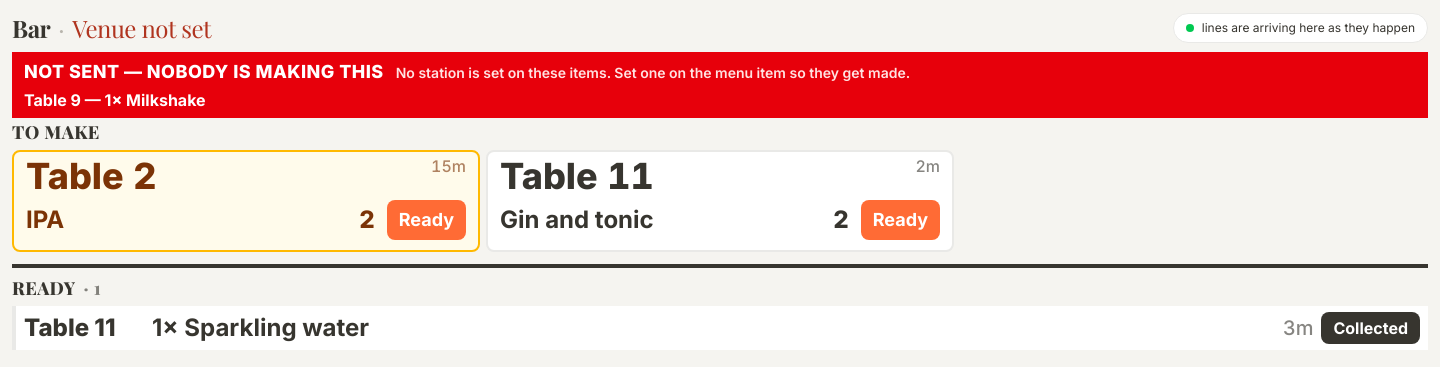
Test: BarScreen — collected-must-be-recoverable (the one ruling changed from the proposal) › a failed Collected tap does not mark the row collected — the server never actually moved it
Click the button "Collected" at (1371, 328), box [1321,312,1420,344]
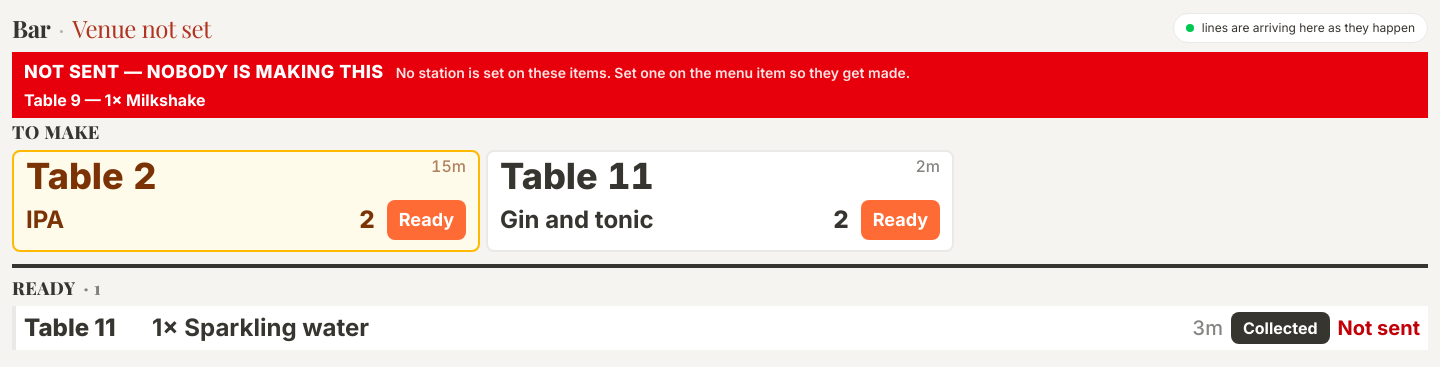
Now the text "Not sent" is shown, box [1338,314,1420,342]
